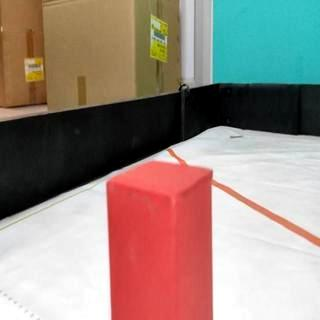redbox: (105, 159, 214, 320)
